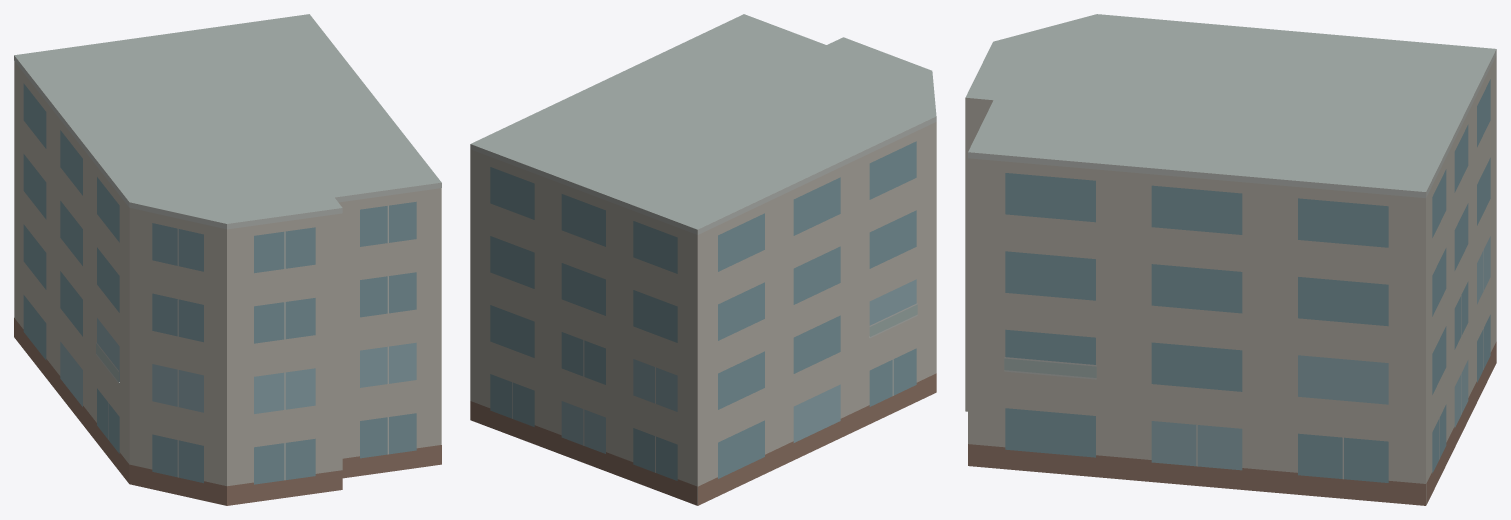
Rendered from survey-upis-32670165.glb.
3 views of the same model, side by side, from view 1: azimuth 30°, elevation 25°; view 2: azimuth 150°, elevation 25°; view 3: azimuth 270°, elevation 25° (orthographic). The views are drawn at different scales.
Parts seen in each view (by area): view 1: survey-upis-32670165.tmp; view 2: survey-upis-32670165.tmp; view 3: survey-upis-32670165.tmp.
Part boxes in pixels (bbox=[...]): survey-upis-32670165.tmp: bbox=[14, 14, 441, 505]; survey-upis-32670165.tmp: bbox=[470, 14, 936, 505]; survey-upis-32670165.tmp: bbox=[965, 14, 1496, 505].
Bounding box in the file's own units: 15.35 × 12.6 × 19.35.
